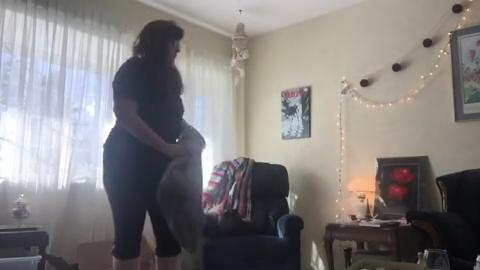blanket: (203, 156, 252, 221)
clothes: (156, 128, 203, 254)
light: (333, 1, 473, 221), (347, 175, 377, 219)
person: (103, 20, 205, 269)
picture: (373, 156, 424, 220), (448, 24, 479, 122), (279, 85, 311, 139)
sofa_couch: (203, 160, 303, 269), (406, 168, 479, 269)
table_desk: (323, 221, 413, 269), (1, 224, 49, 270)
